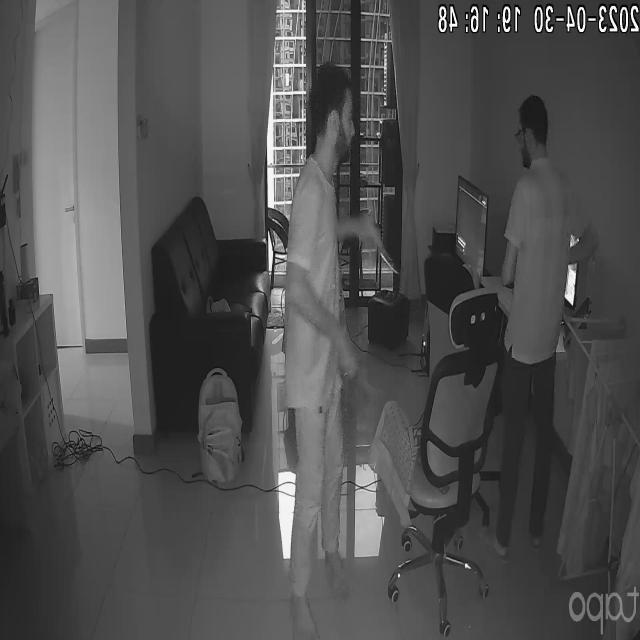Knife: (371, 230, 407, 286)
